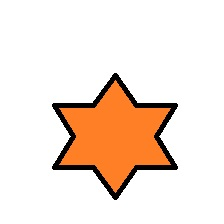star: (52, 73, 178, 201)
